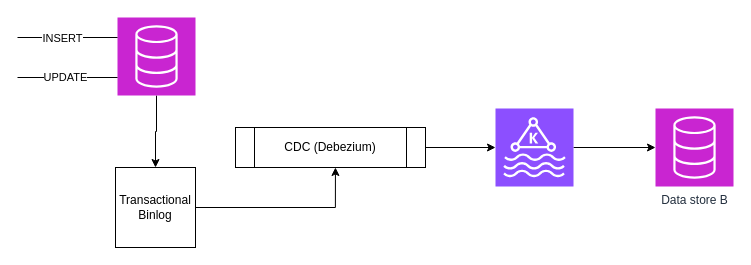
Some shapes in this 751 by 265 pixel diagram are drawn without their labels. The shapes that lost their labels are listed below. From the top down, each one's centre as x and y in pixels, then its label:
the point at 156,56: Data store A
the point at 534,147: Kafka
